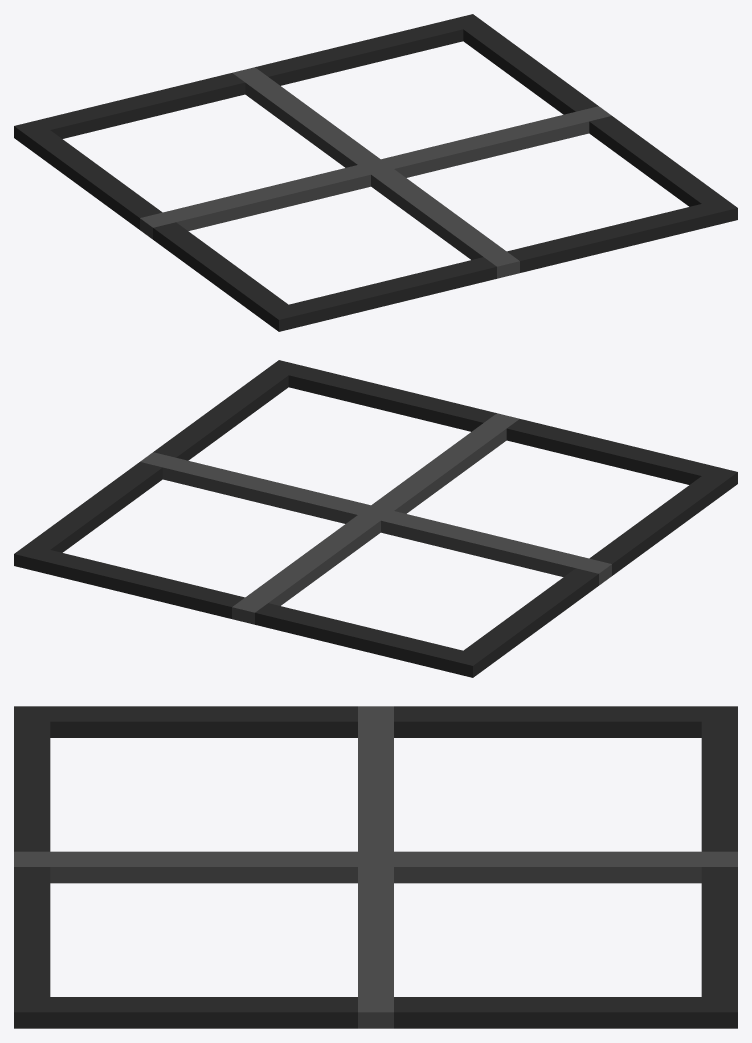
The model's file is movable_wire_plus_turn.obj.
The picture shows the model from 3 angles, top to bottom: view 1: azimuth 30°, elevation 25°; view 2: azimuth 150°, elevation 25°; view 3: azimuth 270°, elevation 25°; orthographic projection. The views are drawn at different scales.
Bounding box in the file's own units: 4 × 0.1 × 4.
Materials: 1 (1 with a texture image).
